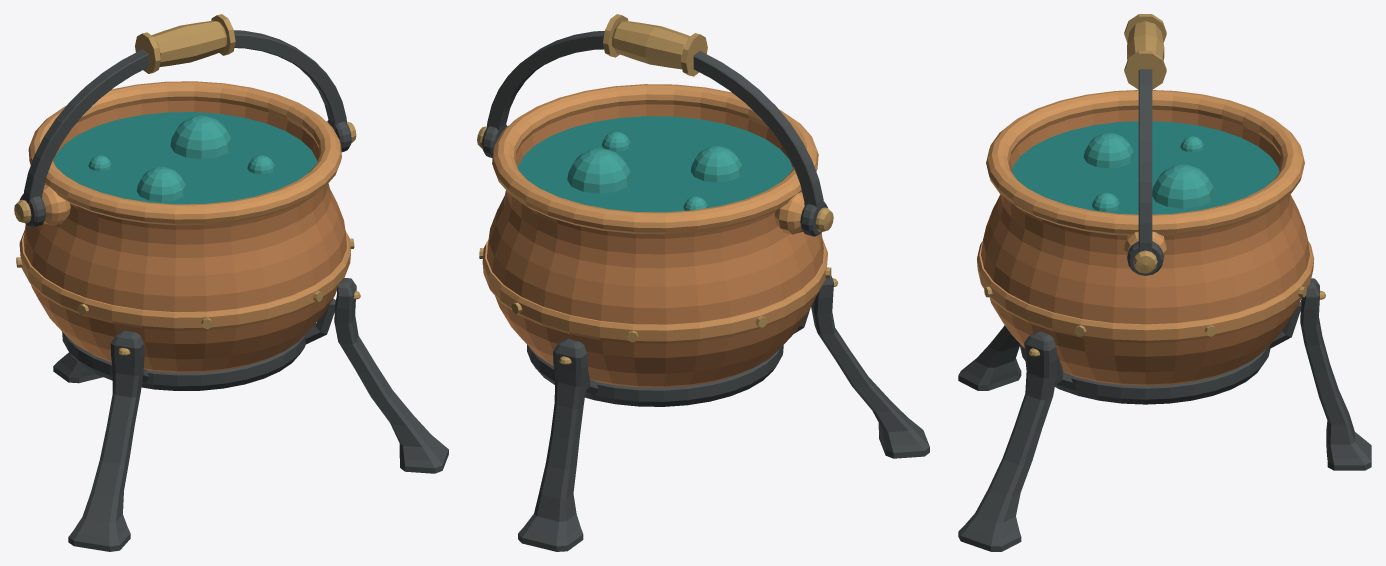
File: asset.glb
3 views of the same model, side by side, from view 1: azimuth 30°, elevation 25°; view 2: azimuth 150°, elevation 25°; view 3: azimuth 270°, elevation 25° (orthographic). The views are drawn at different scales.
Parts seen in each view (by area): view 1: pot_shell, brew_surface, pot_rolled_rim, tripod_leg_front_left, pot_belly_seam, bail_iron_arch, tripod_leg_front_right, tripod_cradle_ring, bail_brass_grip, brew_bubble_01, brew_bubble_00, pot_bail_lug_left (+3 smaller); view 2: pot_shell, brew_surface, pot_rolled_rim, tripod_leg_rear, pot_belly_seam, bail_iron_arch, tripod_leg_front_left, tripod_cradle_ring, bail_brass_grip, brew_bubble_01, brew_bubble_00, pot_bail_lug_left (+1 smaller); view 3: pot_shell, pot_rolled_rim, brew_surface, tripod_leg_front_right, pot_belly_seam, tripod_leg_rear, tripod_cradle_ring, bail_iron_arch, tripod_leg_front_left, brew_bubble_01, brew_bubble_00, bail_grip_collar_right (+2 smaller).
Part boxes in pixels (x1,y1,x2,y2): pot_shell: (23,100,346,372); brew_surface: (53,112,317,204); pot_rolled_rim: (28,81,341,225); tripod_leg_front_left: (68,330,144,551); pot_belly_seam: (19,230,350,330); bail_iron_arch: (23,30,346,207); tripod_leg_front_right: (334,278,448,473); tripod_cradle_ring: (62,332,305,390); bail_brass_grip: (151,20,226,67); brew_bubble_01: (170,115,232,159); brew_bubble_00: (136,167,186,201); pot_bail_lug_left: (42,185,70,225); pot_shell: (487,104,823,387); brew_surface: (517,116,792,212); pot_rolled_rim: (492,84,818,234); tripod_leg_rear: (518,338,588,551); pot_belly_seam: (482,239,827,343); bail_iron_arch: (487,31,823,215); tripod_leg_front_left: (811,275,929,458); tripod_cradle_ring: (527,345,783,406); bail_brass_grip: (612,21,690,69); brew_bubble_01: (567,148,631,193); brew_bubble_00: (690,146,742,182); pot_bail_lug_left: (774,192,804,234); pot_shell: (981,109,1309,385); pot_rolled_rim: (986,90,1304,235); brew_surface: (1011,121,1279,214); tripod_leg_front_right: (958,331,1057,551); pot_belly_seam: (977,241,1314,343); tripod_leg_rear: (1300,278,1371,470); tripod_cradle_ring: (1020,344,1270,404); bail_iron_arch: (1138,69,1152,251); tripod_leg_front_left: (958,325,1021,390); brew_bubble_01: (1152,164,1214,208); brew_bubble_00: (1083,133,1134,168); bail_grip_collar_right: (1124,51,1166,89).
Size of the model in its own units: 0.2911 by 0.3103 by 0.2732.
